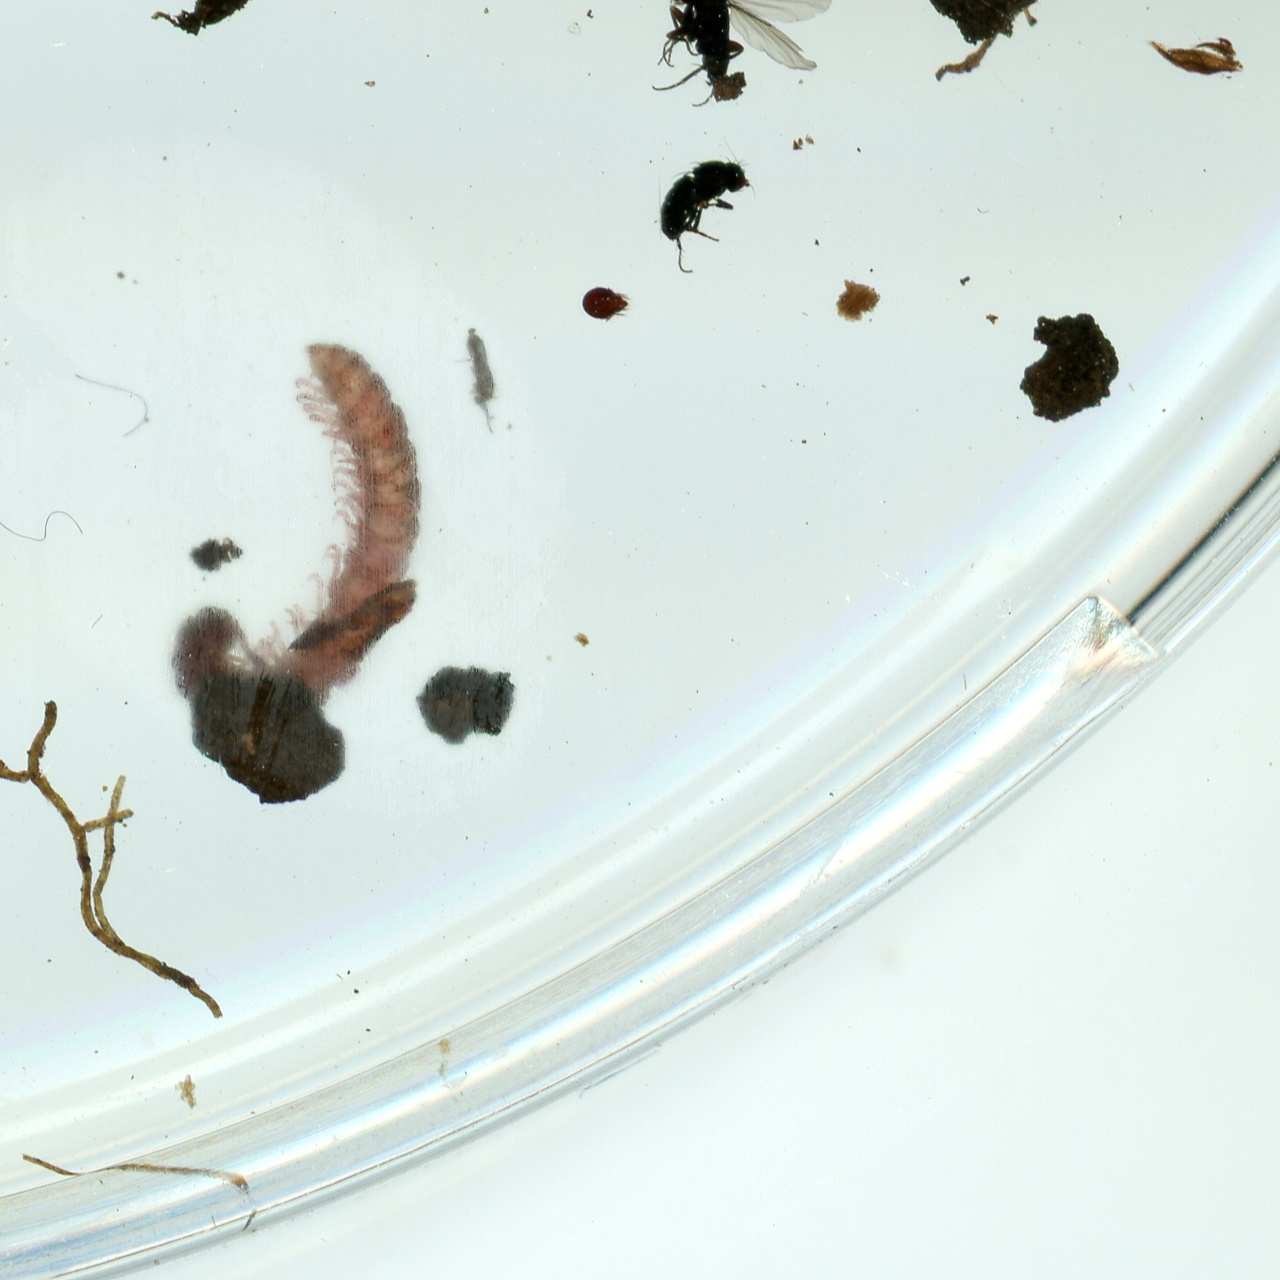arthropod: (231, 334, 436, 721), (648, 0, 837, 118), (649, 138, 762, 278), (444, 308, 502, 437), (578, 284, 633, 325)
